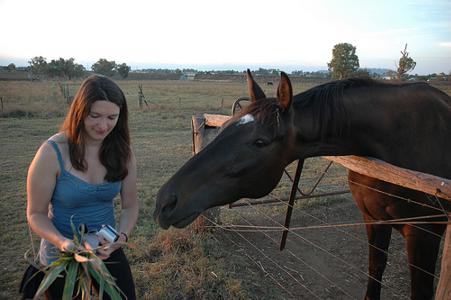person: (26, 75, 139, 300)
